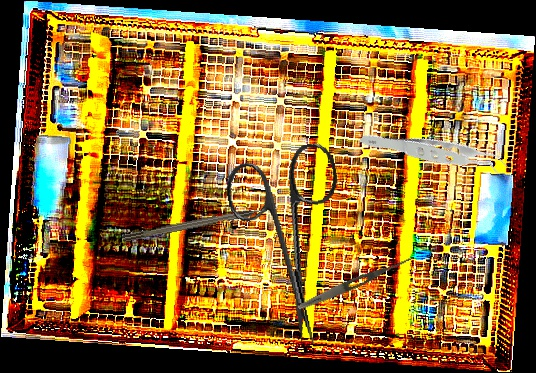Dressing Forceps: (296, 252, 415, 313)
Hook Surgical: (121, 203, 279, 243)
Iris Scissors: (221, 140, 365, 355)
Tissue Forceps: (357, 79, 516, 233)
